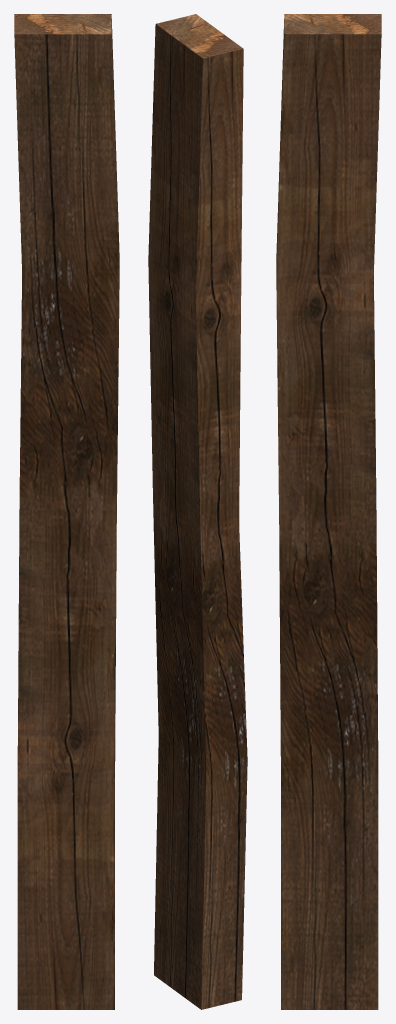
Rendered from plank_1.fbx.
3 views of the same model, side by side, from view 1: azimuth 90°, elevation 25°; view 2: azimuth 210°, elevation 25°; view 3: azimuth 270°, elevation 25° (orthographic). The views are drawn at different scales.
Parts seen in each view (by area): view 1: Box004; view 2: Box004; view 3: Box004.
Boxes of the visible parts, x1=… form: Box004: x1=14, y1=14, x2=119, y2=1009; Box004: x1=148, y1=14, x2=247, y2=1009; Box004: x1=276, y1=14, x2=381, y2=1009.
Bounding box in the file's own units: 20.24 × 372 × 36.32.
